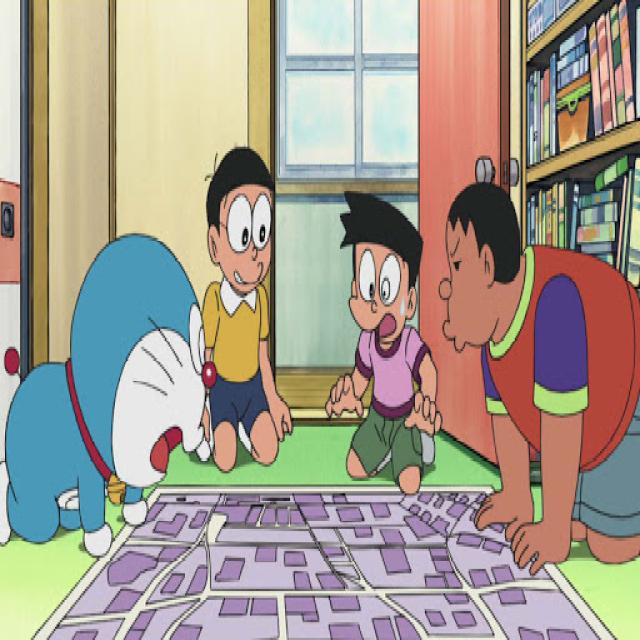doraemon: (65, 211, 221, 522)
jaian: (433, 178, 528, 371)
nobita: (194, 136, 280, 300)
suneo: (332, 178, 427, 358)
